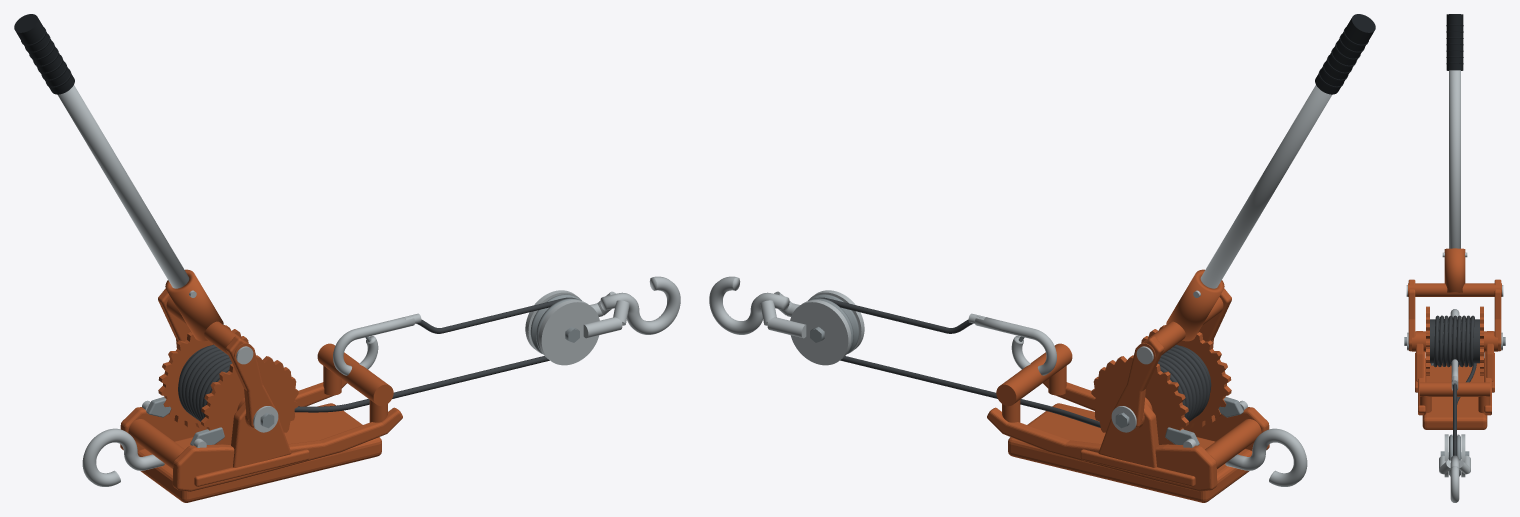
3 renders of one model, left to right at view 1: azimuth 30°, elevation 25°; view 2: azimuth 150°, elevation 25°; view 3: azimuth 270°, elevation 25°, orthographic. The views are drawn at different scales.
Parts seen in each view (by area): view 1: Low tray bottom, Continuous wound cable and double line, Hollow inserted steel lever, Curved cast side rail -1, Toothed reel flange -1, Tackle block cheek -1, Frame bearing support -1, Rounded molded lever grip, Fixed rear frame hook, Toothed reel flange 1, Tackle block load hook, Angled hollow lever socket (+7 smaller); view 2: Low tray bottom, Continuous wound cable and double line, Hollow inserted steel lever, Curved cast side rail 1, Toothed reel flange 1, Tackle block cheek 1, Frame bearing support 1, Rounded molded lever grip, Fixed rear frame hook, Toothed reel flange -1, Tackle block load hook, Angled hollow lever socket (+7 smaller); view 3: Low tray bottom, Continuous wound cable and double line, Hollow inserted steel lever, Yoke upper crossbridge, Raised front hook anchor crossbar, Cable drum core, Rounded molded lever grip, Angled hollow lever socket, Raised lever fork -1, Raised lever fork 1, Tackle block load hook, Frame bearing support -1 (+13 smaller).
Boxes of the visible parts, x1,y1,x2,y2 form: Low tray bottom: (137,403,381,502); Continuous wound cable and double line: (178,297,575,421); Hollow inserted steel lever: (58,85,189,288); Curved cast side rail -1: (172,407,402,491); Toothed reel flange -1: (201,355,298,444); Tackle block cheek -1: (538,300,599,365); Frame bearing support -1: (231,402,291,467); Rounded molded lever grip: (14,14,74,94); Fixed rear frame hook: (82,428,164,486); Toothed reel flange 1: (158,325,248,428); Tackle block load hook: (600,276,680,334); Angled hollow lever socket: (165,269,223,341); Low tray bottom: (1008,403,1252,502); Continuous wound cable and double line: (815,297,1210,427); Hollow inserted steel lever: (1200,85,1331,288); Curved cast side rail 1: (987,407,1217,491); Toothed reel flange 1: (1091,355,1188,444); Tackle block cheek 1: (790,300,851,365); Frame bearing support 1: (1098,402,1158,467); Rounded molded lever grip: (1315,14,1375,94); Fixed rear frame hook: (1225,428,1307,486); Toothed reel flange -1: (1141,325,1231,428); Tackle block load hook: (709,276,789,334); Angled hollow lever socket: (1166,269,1224,341); Low tray bottom: (1422,358,1487,429); Continuous wound cable and double line: (1433,315,1476,455); Hollow inserted steel lever: (1449,70,1460,248); Yoke upper crossbridge: (1408,283,1501,296); Raised front hook anchor crossbar: (1419,382,1490,396); Cable drum core: (1430,319,1479,363); Rounded molded lever grip: (1446,14,1463,70); Angled hollow lever socket: (1444,248,1465,292); Raised lever fork -1: (1408,279,1415,351); Raised lever fork 1: (1494,279,1501,351); Tackle block load hook: (1450,455,1459,502); Frame bearing support -1: (1416,331,1423,381).
Bounding box in the file's own units: 99.2 × 71.72 × 20.8.
